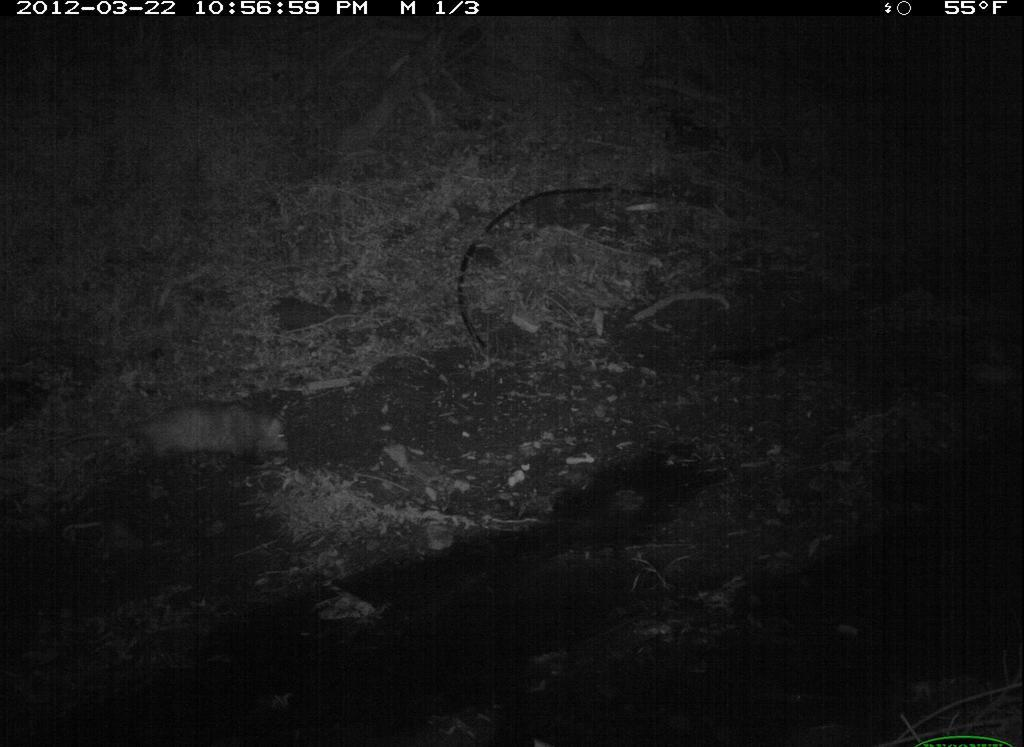opossum: (35, 392, 300, 484)
